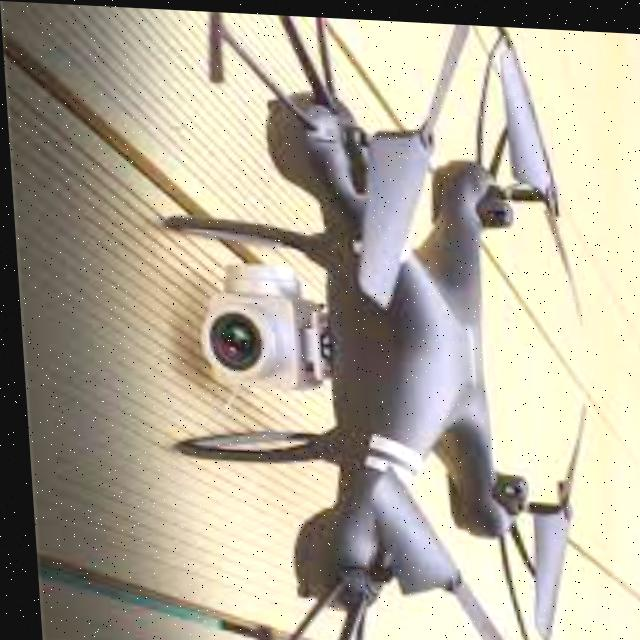drone: (139, 6, 615, 640)
